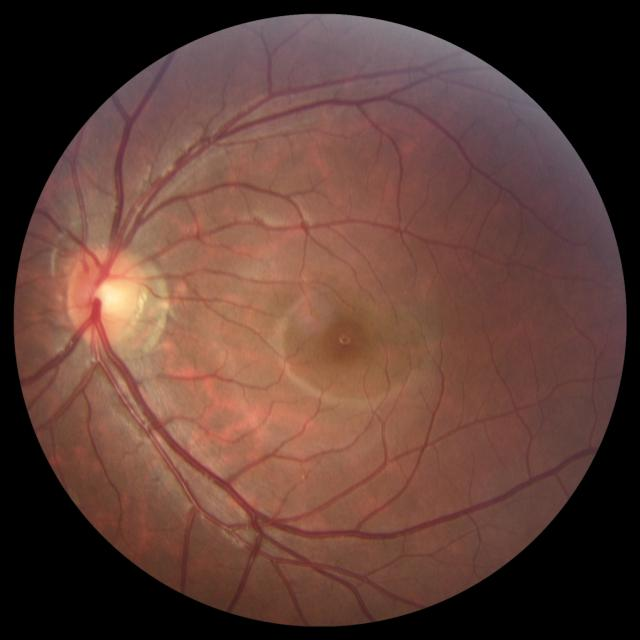OC: (89, 278, 124, 312)
OD: (65, 244, 144, 346)
